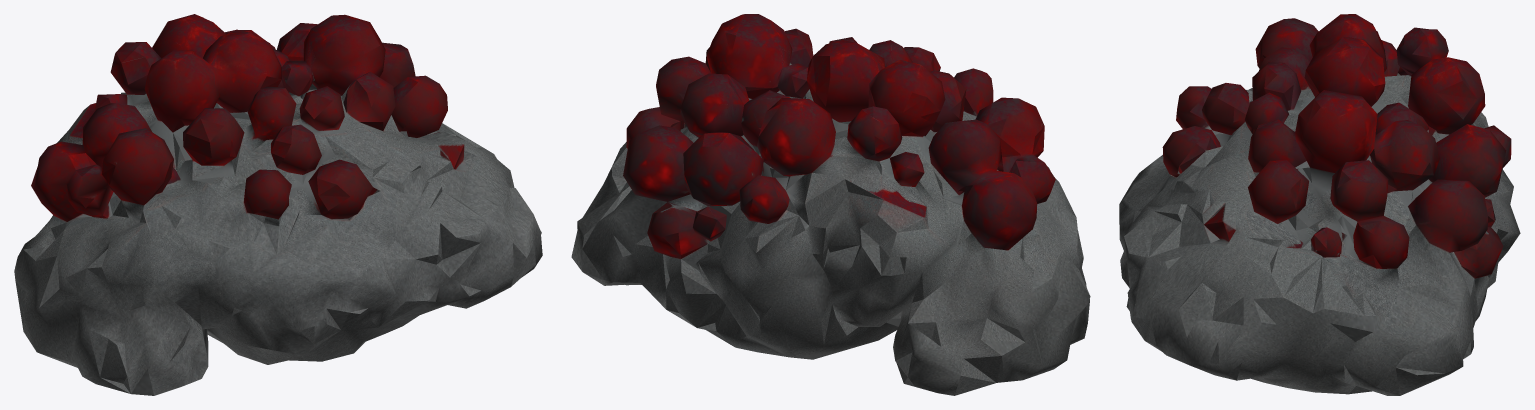
Rendered from Garnet.fbx.
The picture shows the model from 3 angles, left to right: view 1: azimuth 30°, elevation 25°; view 2: azimuth 150°, elevation 25°; view 3: azimuth 270°, elevation 25°; orthographic projection. The views are drawn at different scales.
Parts seen in each view (by area): view 1: Mesh_0; view 2: Mesh_0; view 3: Mesh_0.
Boxes of the visible parts, bbox=[...] form: Mesh_0: bbox=[14, 14, 542, 395]; Mesh_0: bbox=[571, 14, 1090, 395]; Mesh_0: bbox=[1119, 14, 1520, 395].
Bounding box in the file's own units: 186 × 106 × 142.
1 material, 1 textured.
